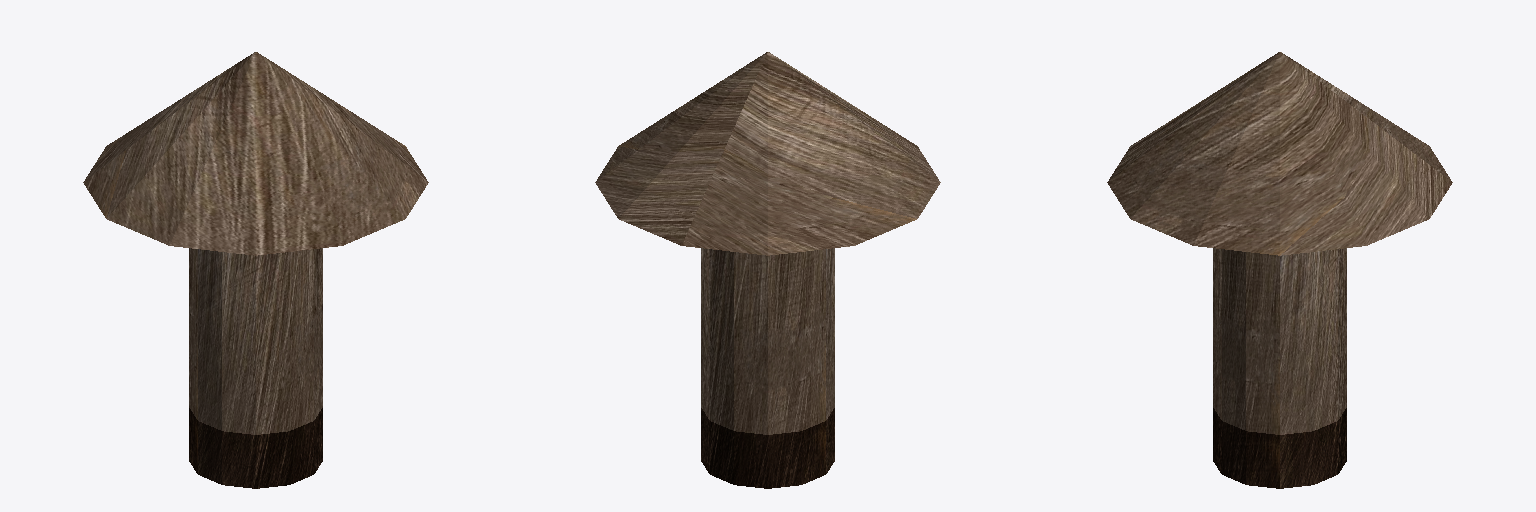
3 views of the same model, side by side, from view 1: azimuth 30°, elevation 25°; view 2: azimuth 150°, elevation 25°; view 3: azimuth 270°, elevation 25° (orthographic).
Visible parts, largest first — view 1: airExhaust_4; view 2: airExhaust_4; view 3: airExhaust_4.
Boxes of the visible parts, box(x1,y1,x2,y2) form: airExhaust_4: box(83, 52, 428, 488); airExhaust_4: box(595, 52, 940, 488); airExhaust_4: box(1107, 52, 1452, 488).
Bounding box in the file's own units: 0.5226 × 0.6825 × 0.5226.
Materials: 1 (1 with a texture image).